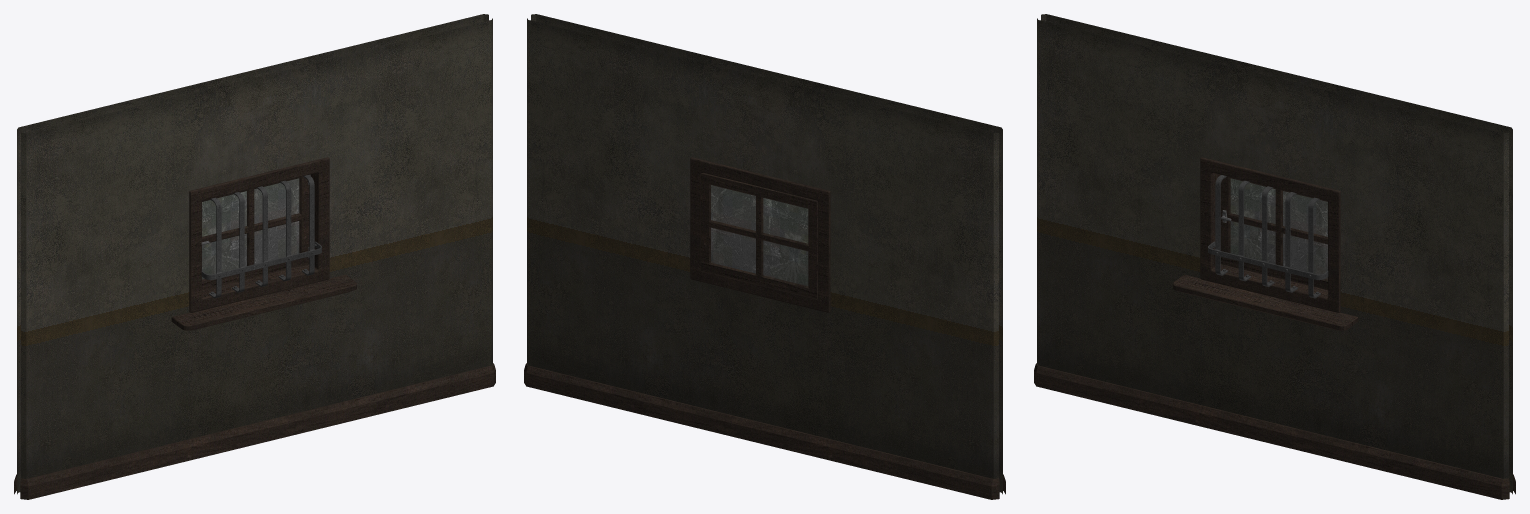
The model's file is window_1_single.glb.
3 views of the same model, side by side, from view 1: azimuth 30°, elevation 25°; view 2: azimuth 150°, elevation 25°; view 3: azimuth 330°, elevation 25° (orthographic).
Parts seen in each view (by area): view 1: window_1_single, metal_bars_single; view 2: window_1_single; view 3: window_1_single, metal_bars_single.
Part boxes in pixels (bbox=[...]): window_1_single: bbox=[14, 14, 495, 499]; metal_bars_single: bbox=[201, 175, 321, 298]; window_1_single: bbox=[524, 14, 1005, 499]; window_1_single: bbox=[1034, 14, 1515, 499]; metal_bars_single: bbox=[1208, 175, 1328, 298].
Bounding box in the file's own units: 4.09 × 3 × 0.35.
5 materials, 5 textured.
